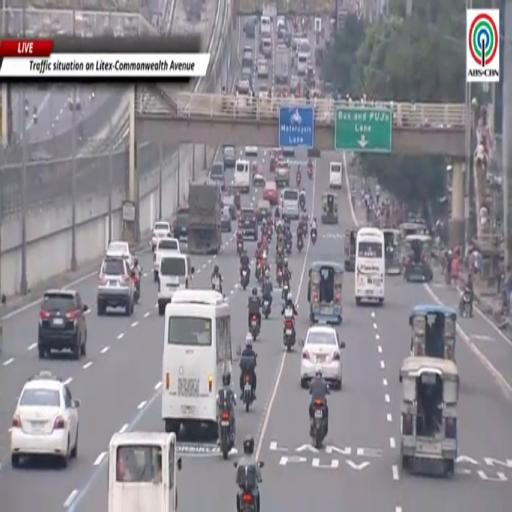bus: (162, 290, 232, 437), (108, 432, 181, 511), (355, 228, 385, 305)
car: (10, 372, 80, 468), (38, 290, 88, 359), (301, 325, 345, 389), (97, 256, 134, 315), (153, 237, 180, 282), (238, 207, 258, 241), (106, 242, 133, 267), (150, 221, 171, 251), (173, 205, 188, 241), (209, 162, 225, 189), (222, 192, 236, 220), (263, 181, 278, 205), (275, 164, 290, 187), (256, 200, 271, 222), (252, 164, 266, 187), (244, 17, 258, 38), (223, 146, 236, 168), (260, 36, 272, 59), (237, 75, 251, 94), (221, 206, 231, 232), (242, 46, 253, 67), (289, 75, 300, 94), (68, 94, 81, 110), (257, 59, 268, 77), (258, 85, 268, 99), (282, 147, 294, 158), (245, 146, 258, 156)
jeepney: (400, 357, 459, 475), (409, 304, 456, 360), (308, 261, 343, 325), (402, 235, 432, 282), (383, 229, 401, 275), (321, 192, 338, 223), (345, 229, 357, 271), (399, 222, 428, 238)
motorcycle: (312, 399, 326, 449), (219, 411, 233, 459), (237, 487, 257, 511), (283, 312, 295, 350), (242, 374, 254, 411), (240, 491, 256, 511), (460, 291, 471, 317), (132, 274, 140, 303), (250, 315, 258, 341), (241, 266, 249, 290), (212, 276, 222, 294), (262, 298, 270, 318), (276, 266, 283, 287), (255, 260, 261, 281), (282, 282, 289, 300), (310, 228, 317, 244), (285, 238, 291, 255), (300, 196, 306, 212), (237, 239, 243, 255), (297, 236, 303, 252), (267, 224, 272, 243), (296, 171, 301, 186), (308, 165, 313, 179)
truck: (188, 178, 221, 254), (274, 45, 290, 85)
